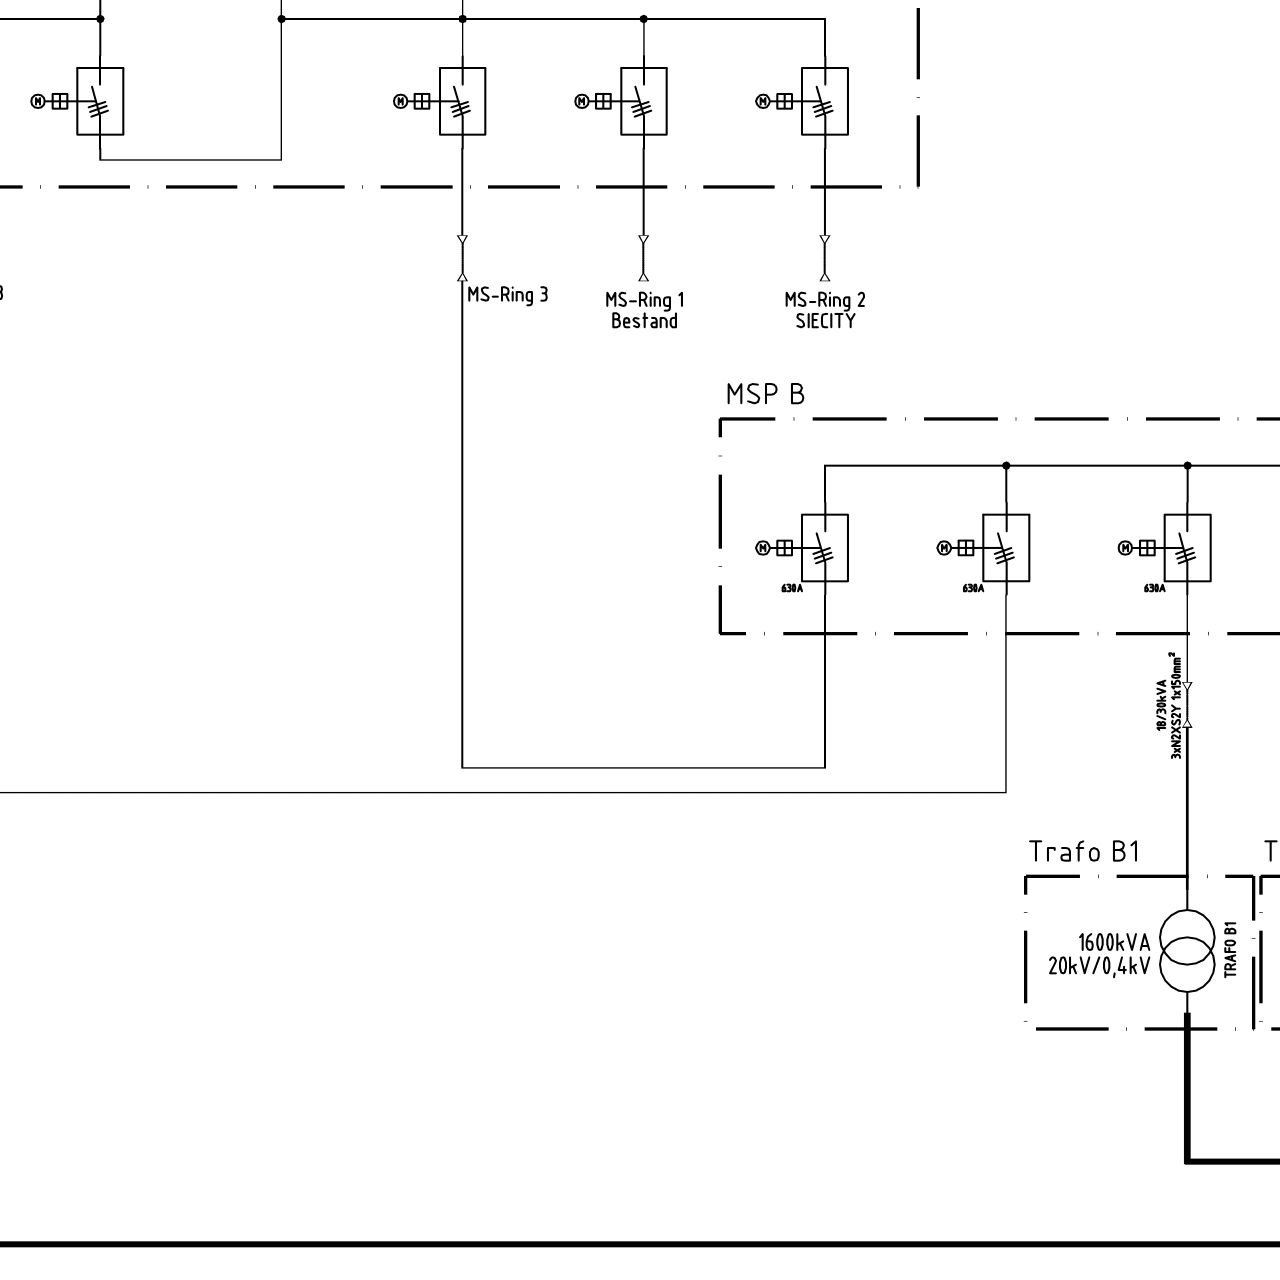Transformer: (1150, 903, 1220, 1000)
